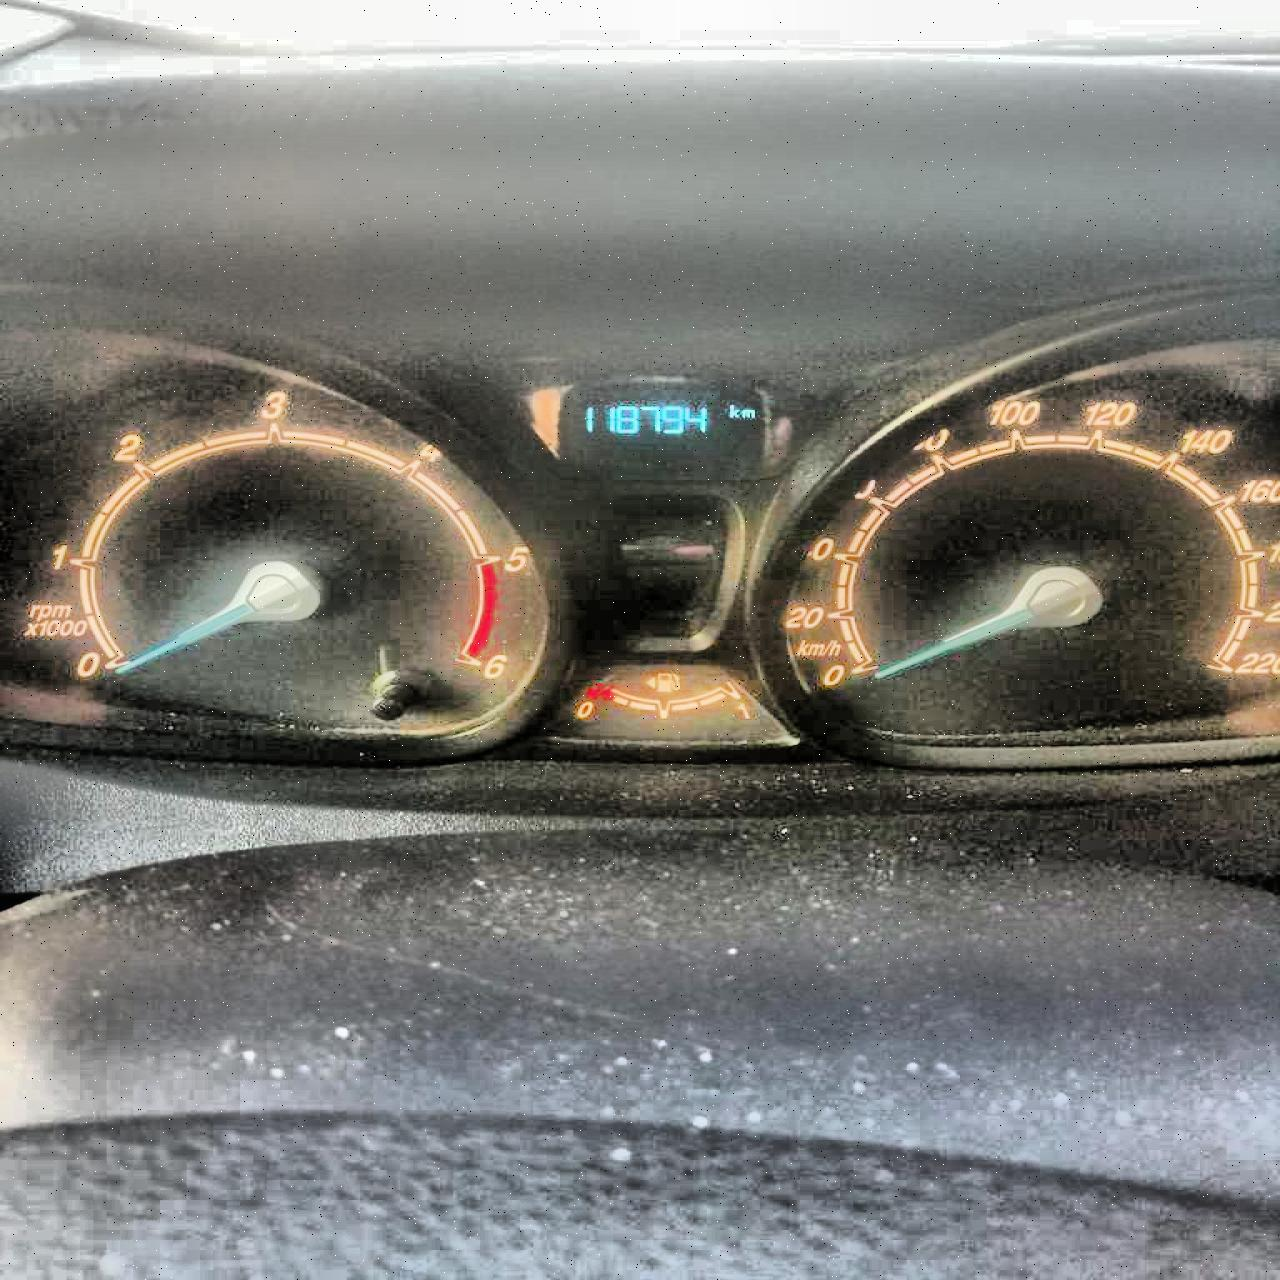1: (584, 406, 593, 431), (607, 406, 613, 430)
4: (682, 406, 706, 431)
7: (639, 406, 660, 431)
8: (615, 406, 636, 433)
9: (660, 406, 682, 433)
X: (727, 402, 738, 417), (740, 409, 754, 416)
odometer: (553, 376, 769, 470)
